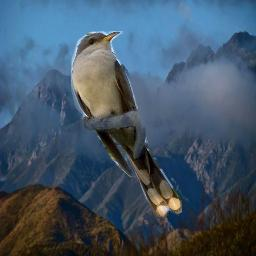Cuckoo: (71, 31, 182, 217)
